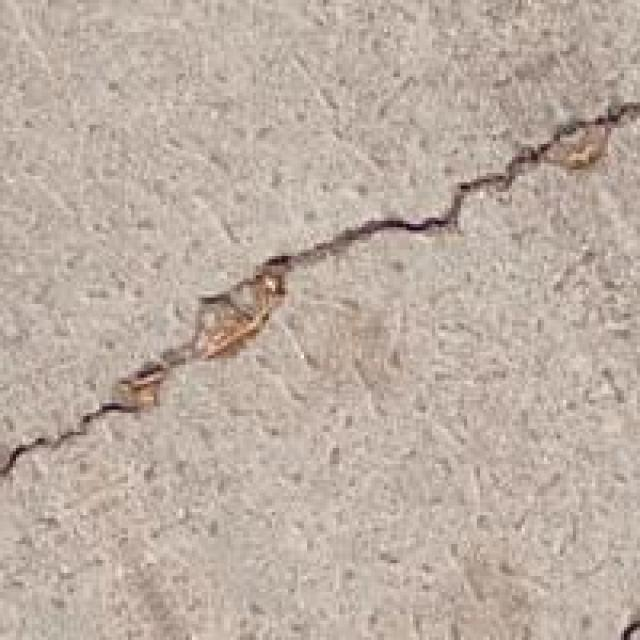crack: (9, 86, 636, 493)
